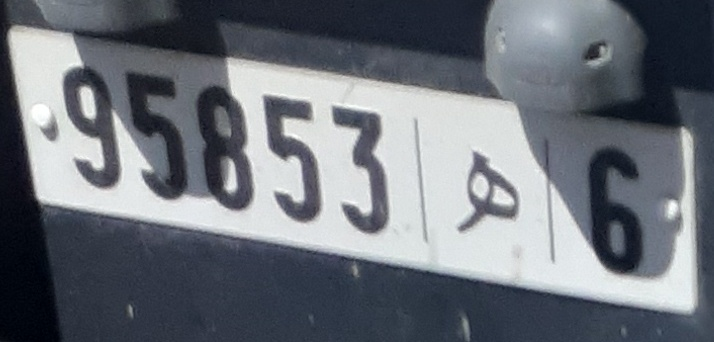3: (323, 99, 395, 238)
5: (257, 85, 323, 223), (123, 69, 189, 204)
6: (579, 137, 649, 291)
8: (195, 81, 264, 223)
9: (47, 64, 132, 198)
h: (452, 135, 530, 248)
